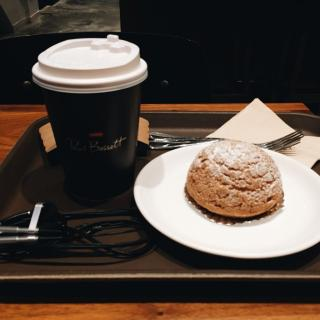Cookie: (185, 138, 282, 226)
